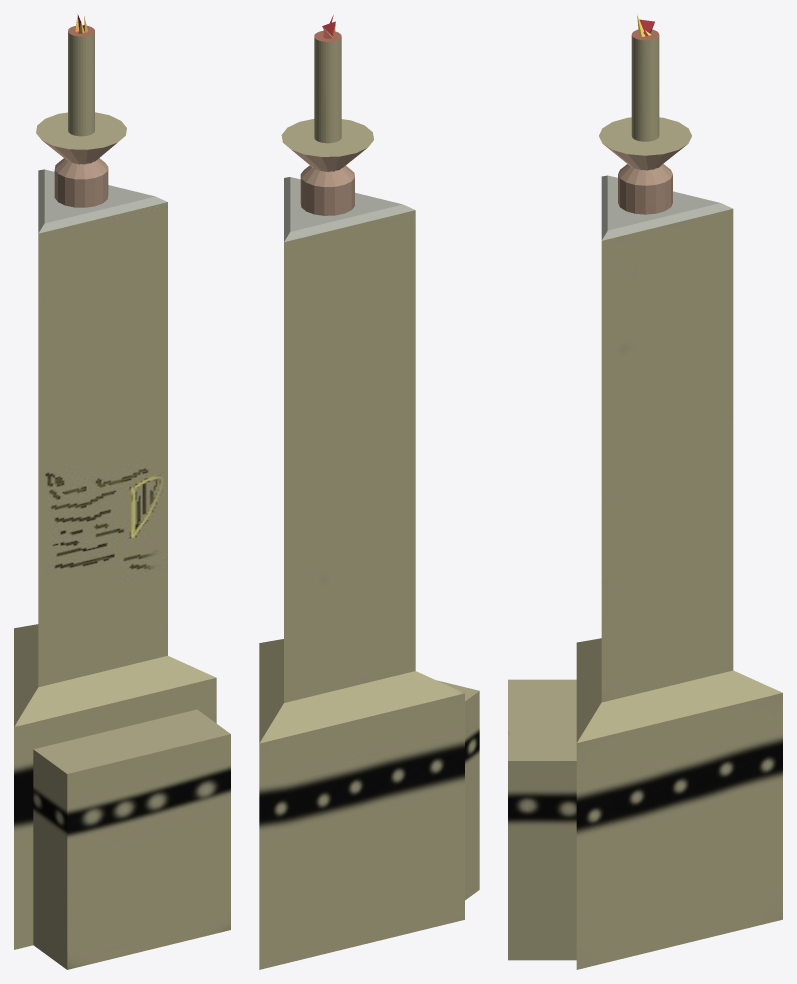
Rendered from monument1.gltf.
The picture shows the model from 3 angles, left to right: view 1: azimuth 30°, elevation 25°; view 2: azimuth 150°, elevation 25°; view 3: azimuth 270°, elevation 25°; orthographic projection.
Parts seen in each view (by area): view 1: Circle; view 2: Circle; view 3: Circle.
Part boxes in pixels (box(x1,y1,x2,y2)): Circle: box(14, 14, 230, 969); Circle: box(259, 15, 479, 969); Circle: box(508, 14, 782, 969).
Bounding box in the file's own units: 1.73 × 7.26 × 2.
Materials: 1 (1 with a texture image).
